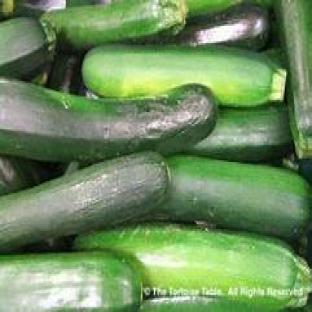Zucchini: (76, 226, 311, 310), (0, 80, 217, 162), (0, 152, 168, 251), (156, 156, 310, 239), (83, 45, 286, 106), (0, 254, 141, 311), (187, 106, 292, 162), (166, 6, 269, 49), (0, 18, 54, 77), (140, 292, 264, 311), (0, 157, 38, 196), (48, 56, 81, 94), (300, 159, 311, 184)
